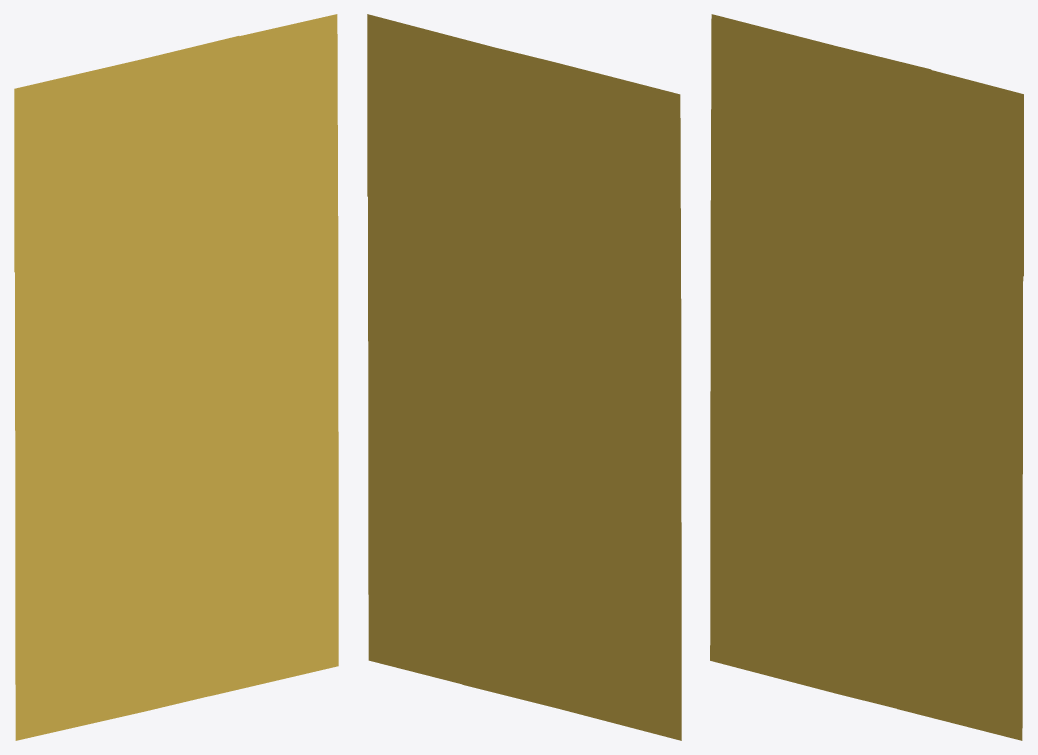
3 views of the same model, side by side, from view 1: azimuth 30°, elevation 25°; view 2: azimuth 150°, elevation 25°; view 3: azimuth 330°, elevation 25° (orthographic).
Parts seen in each view (by area): view 1: Origami_Model_09; view 2: Origami_Model_09; view 3: Origami_Model_09.
Part boxes in pixels (x1=…): Origami_Model_09: x1=14, y1=14, x2=338, y2=740; Origami_Model_09: x1=367, y1=14, x2=681, y2=740; Origami_Model_09: x1=710, y1=14, x2=1023, y2=740.
Bounding box in the file's own units: 0.2 × 0.39 × 0.006.
